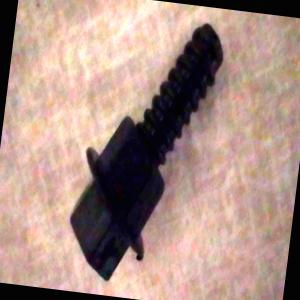parafuso: (57, 1, 235, 298)
